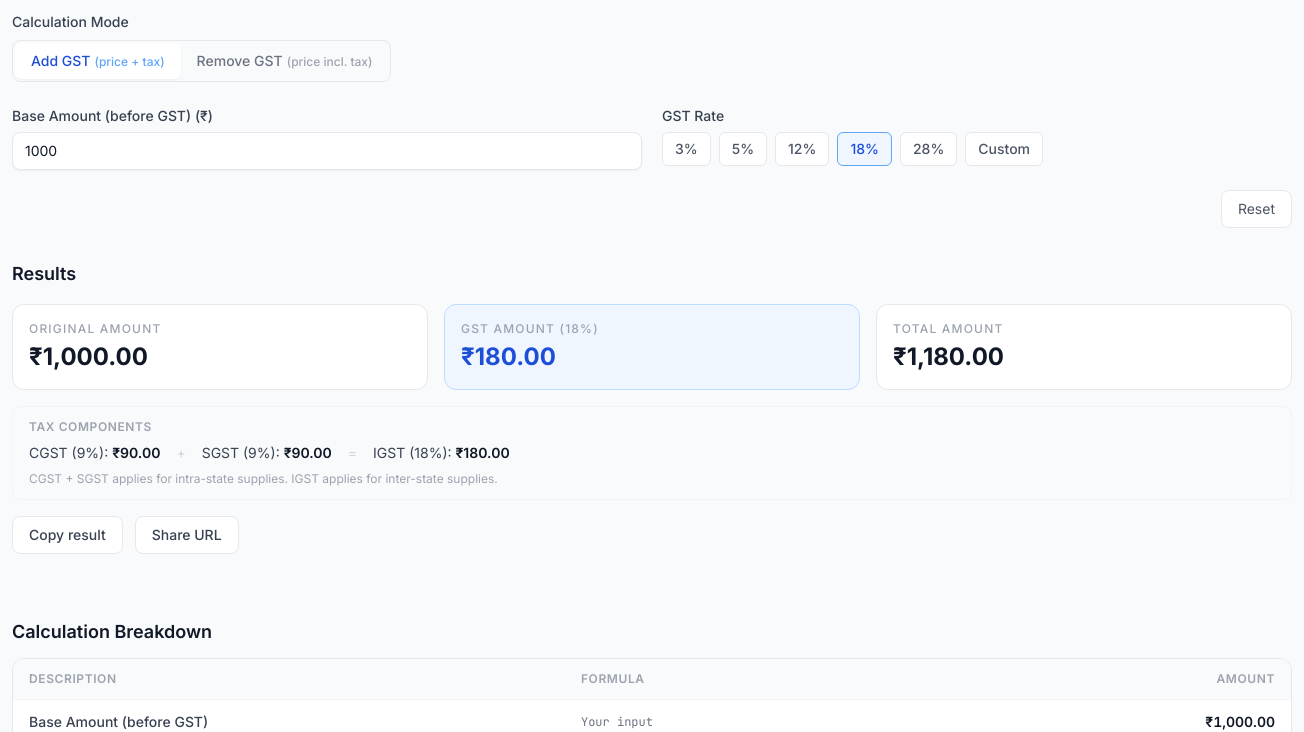
it: GSTCalculator › shows custom rate input after clicking Custom
Step 1. Click the button "Custom" → (1004, 149), box top-left (965, 132), bottom-right (1043, 166)
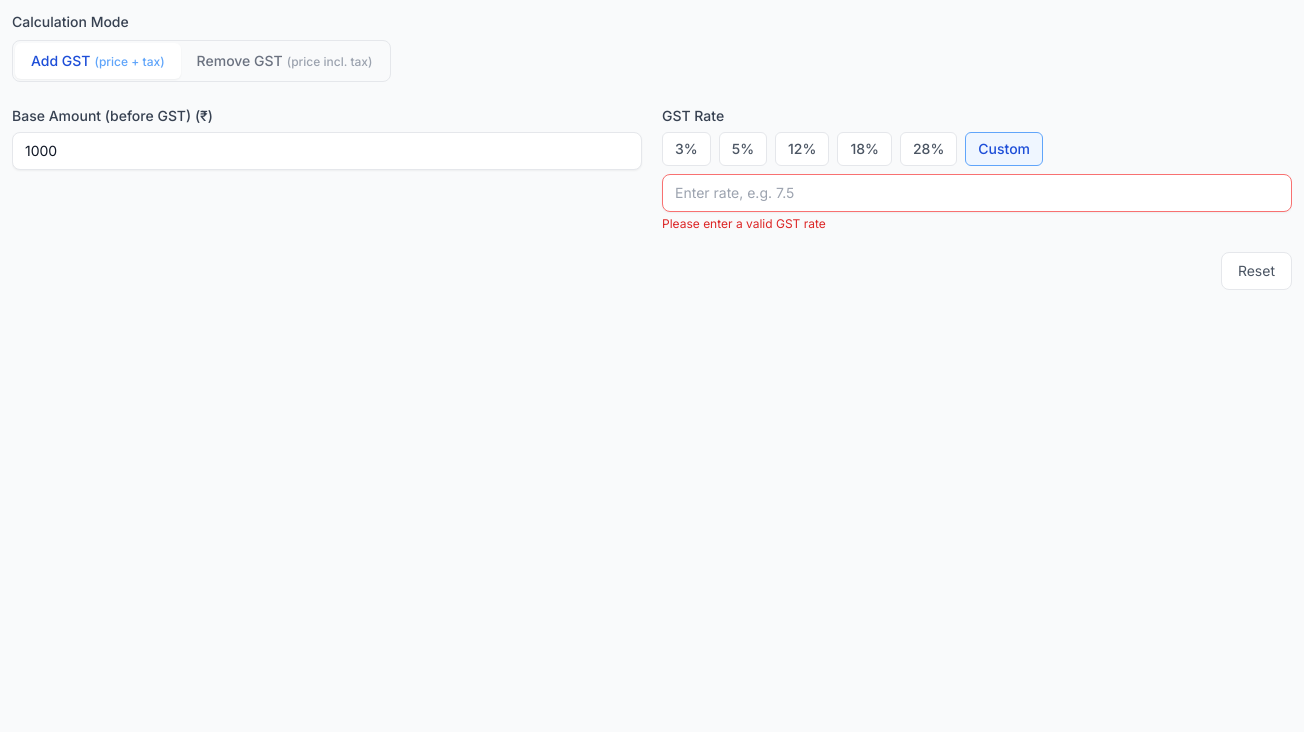
Expected: the number field named "custom gst rate" is shown, top-left (662, 174), bottom-right (1292, 212)
